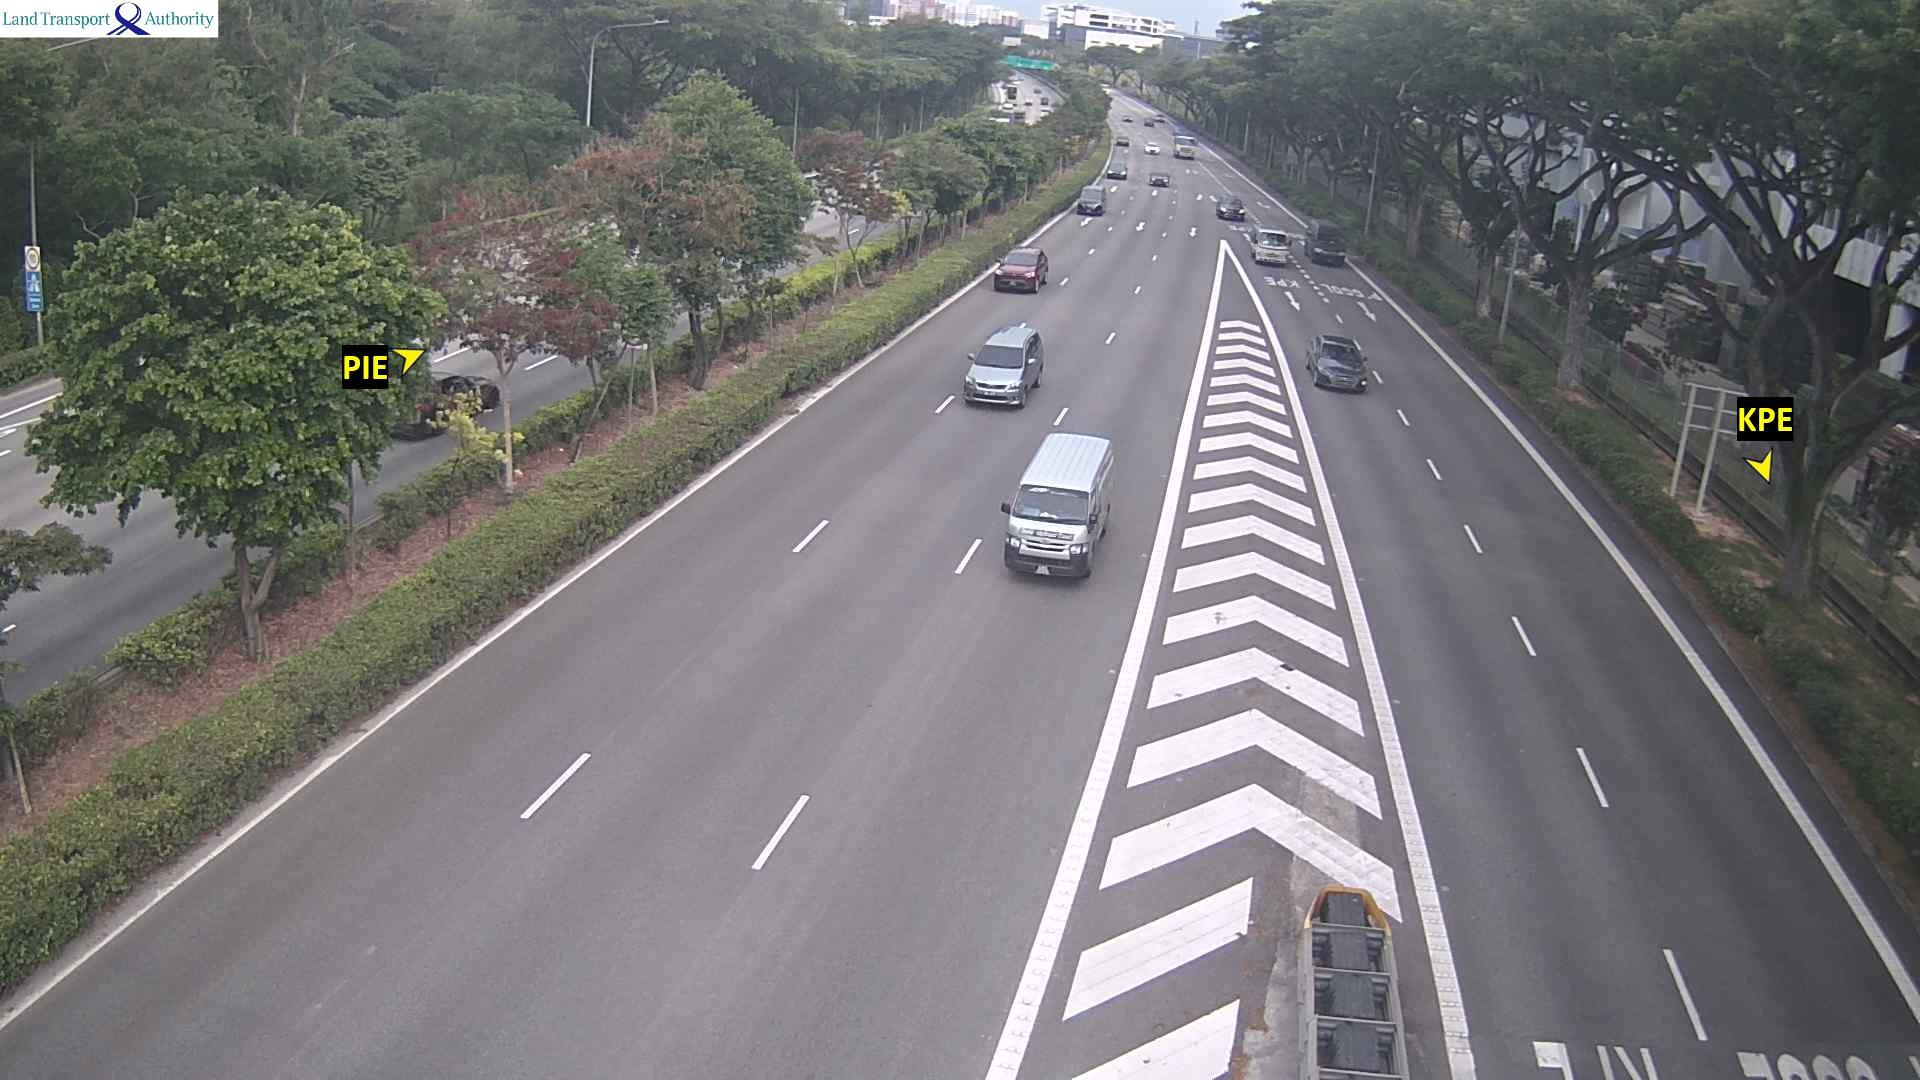cars: (1000, 430, 1114, 579), (961, 322, 1043, 407), (418, 371, 498, 425), (1304, 332, 1367, 392), (990, 247, 1048, 291), (1302, 218, 1346, 265), (1250, 227, 1291, 265), (1073, 185, 1105, 216), (1215, 193, 1245, 220), (1171, 133, 1196, 158), (1105, 160, 1127, 179), (1147, 171, 1168, 186), (1143, 138, 1159, 154), (1114, 133, 1127, 146), (1151, 115, 1166, 127), (1122, 113, 1134, 124)
trucks: (1295, 882, 1410, 1077)
